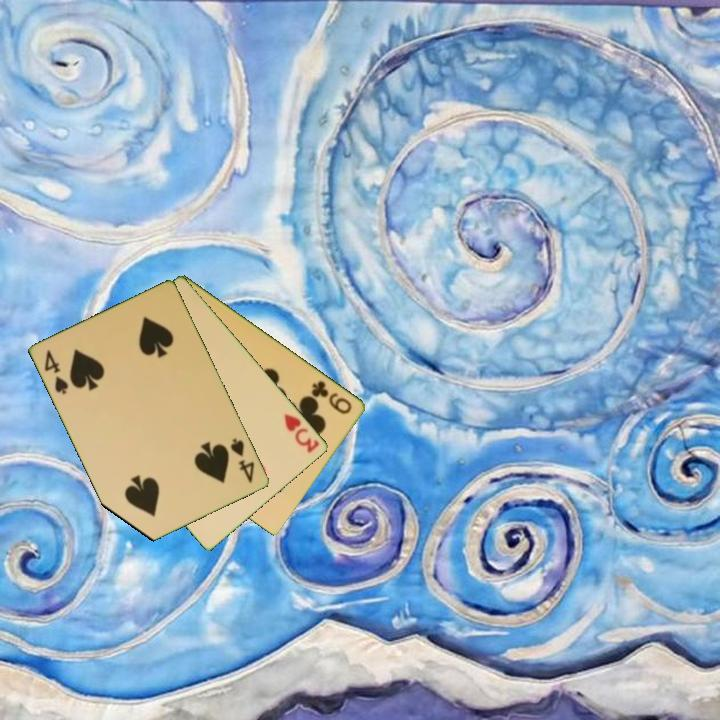3h: (281, 410, 323, 456)
4s: (41, 346, 72, 398), (227, 435, 258, 486)
9c: (308, 377, 355, 417)
